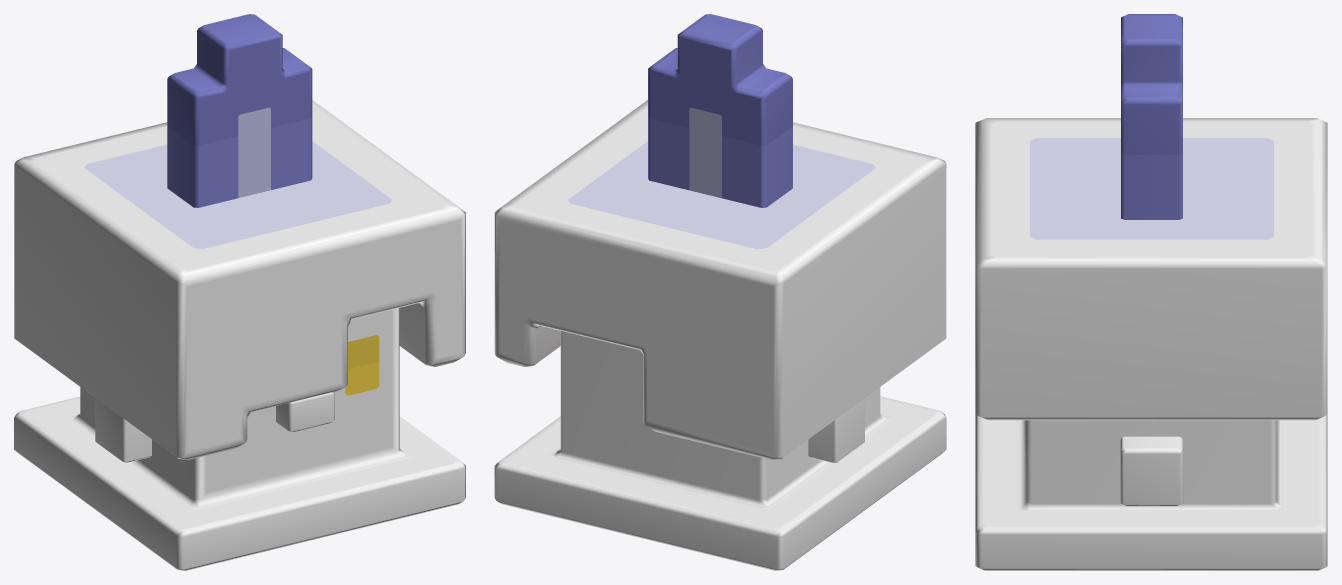
The picture shows the model from 3 angles, left to right: view 1: azimuth 30°, elevation 25°; view 2: azimuth 150°, elevation 25°; view 3: azimuth 270°, elevation 25°; orthographic projection. The views are drawn at different scales.
Visible parts, largest first — view 1: 0607_litwick; view 2: 0607_litwick; view 3: 0607_litwick.
Boxes of the visible parts, bbox=[...] form: 0607_litwick: bbox=[14, 14, 465, 570]; 0607_litwick: bbox=[494, 14, 946, 570]; 0607_litwick: bbox=[975, 14, 1327, 570].
Bounding box in the file's own units: 1.12 × 1.66 × 1.13.
Materials: 1 (1 with a texture image).
